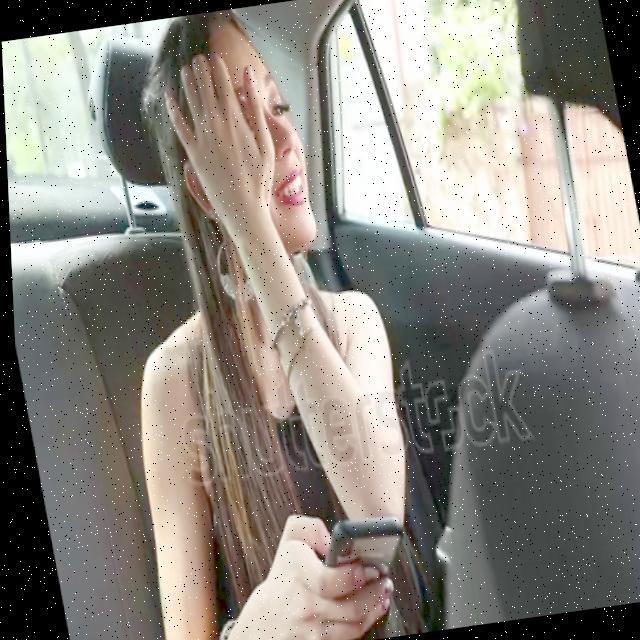PhoneCall: (302, 510, 410, 597)
